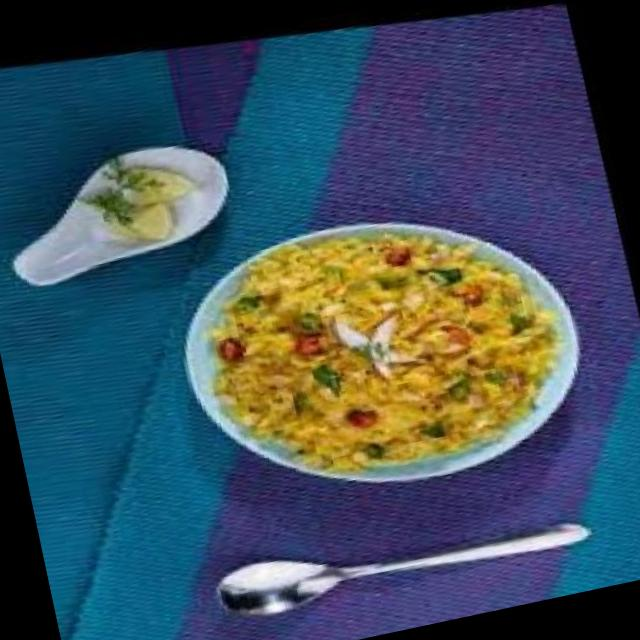poha: (182, 177, 588, 509)
